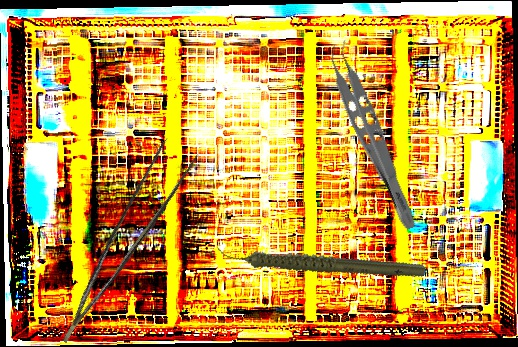Handpiece: (213, 200, 430, 321)
Tissue Forceps: (31, 129, 208, 344), (318, 37, 433, 233)
